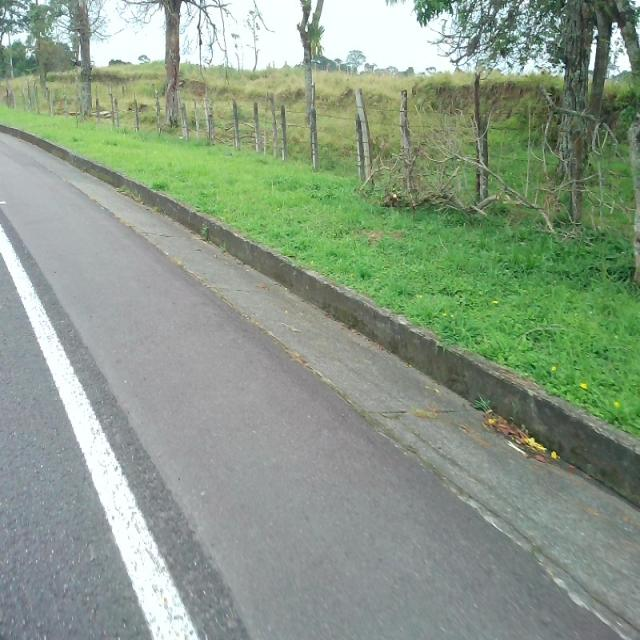DITCH: (1, 124, 639, 638), (1, 164, 639, 637)
